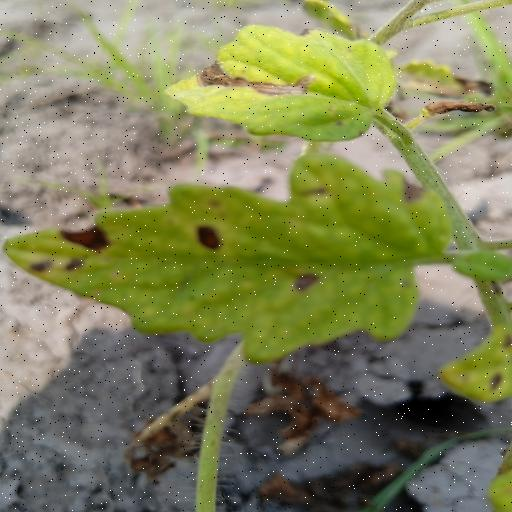Tomato_Brown_Spots: (4, 150, 463, 368), (166, 21, 404, 143)
